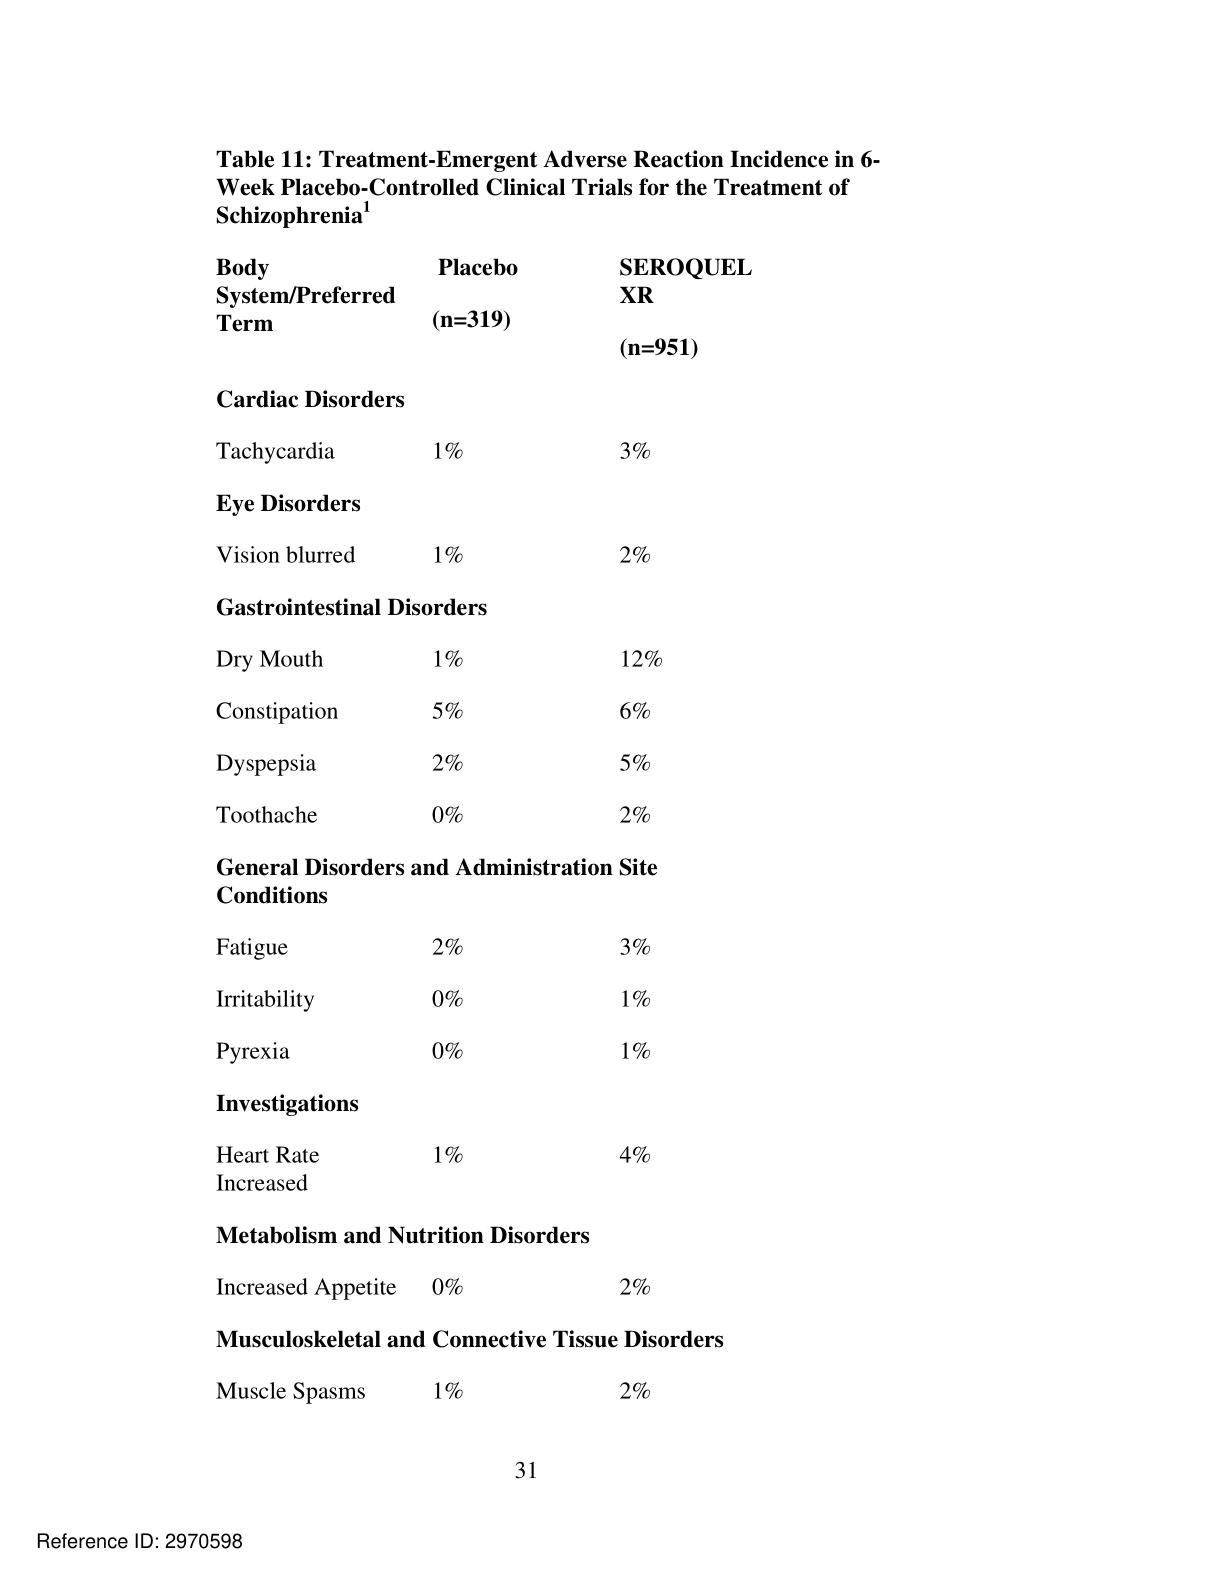nolines: (208, 247, 753, 1413)
